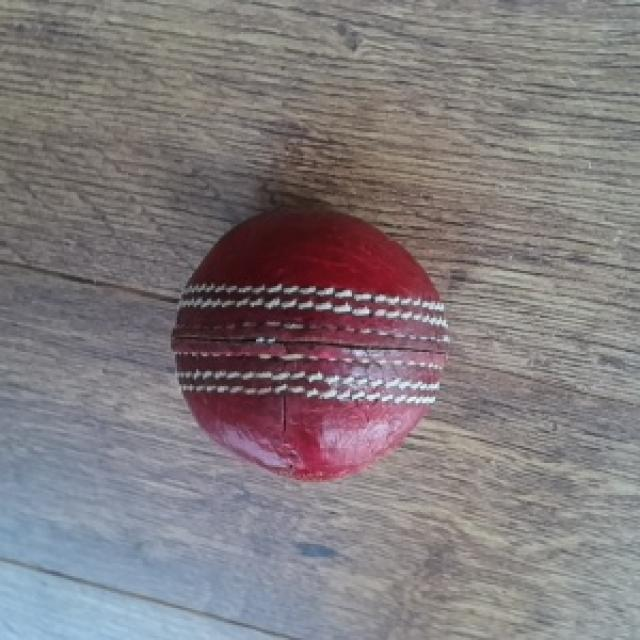ball: (170, 206, 444, 487)
